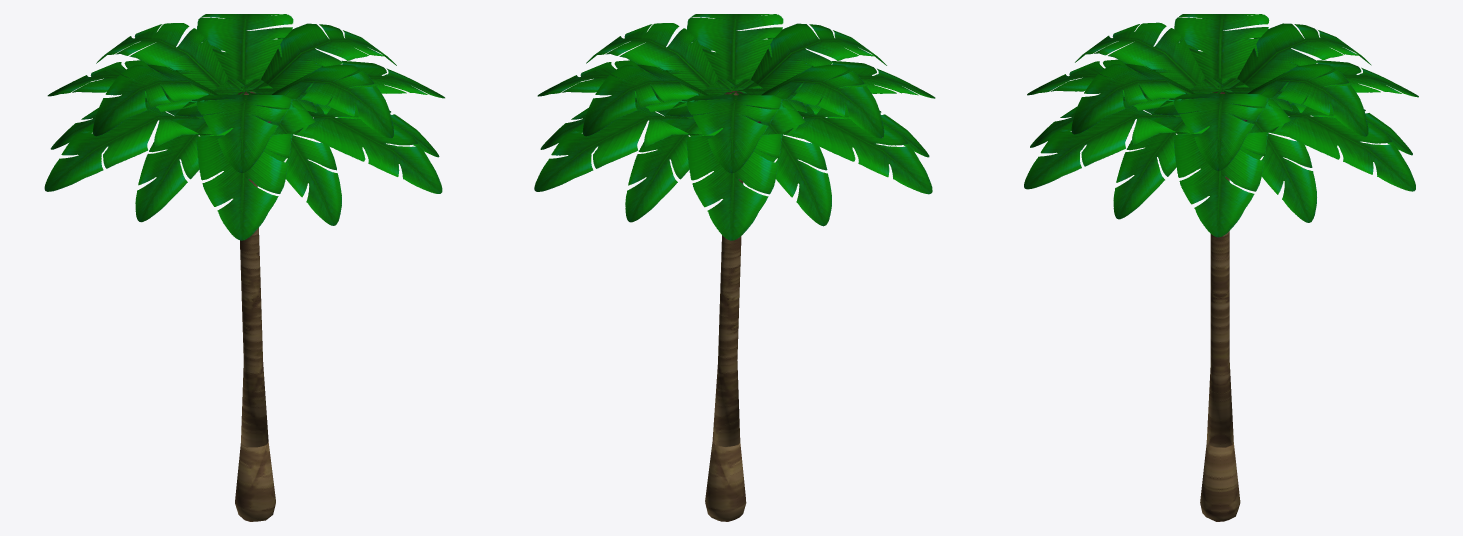
The model's file is PR_Palm_Default.fbx.
3 views of the same model, side by side, from view 1: azimuth 30°, elevation 25°; view 2: azimuth 150°, elevation 25°; view 3: azimuth 270°, elevation 25° (orthographic).
Parts seen in each view (by area): view 1: Palm Leaf.026, Palm Leaf.025, Palm Leaf.027, Plane.010, Plane.014; view 2: Palm Leaf.026, Palm Leaf.025, Palm Leaf.027, Plane.010, Plane.014; view 3: Palm Leaf.026, Palm Leaf.025, Palm Leaf.027, Plane.010, Plane.014.
Boxes of the visible parts, x1=… form: Palm Leaf.026: x1=93, y1=14, x2=396, y2=172; Palm Leaf.025: x1=44, y1=49, x2=444, y2=240; Palm Leaf.027: x1=50, y1=70, x2=439, y2=225; Plane.010: x1=240, y1=179, x2=268, y2=447; Plane.014: x1=235, y1=442, x2=275, y2=521; Palm Leaf.026: x1=582, y1=14, x2=886, y2=173; Palm Leaf.025: x1=534, y1=49, x2=935, y2=240; Palm Leaf.027: x1=540, y1=70, x2=929, y2=226; Plane.010: x1=712, y1=179, x2=743, y2=446; Plane.014: x1=705, y1=442, x2=746, y2=521; Palm Leaf.026: x1=1071, y1=14, x2=1371, y2=170; Palm Leaf.025: x1=1024, y1=49, x2=1418, y2=237; Palm Leaf.027: x1=1030, y1=69, x2=1412, y2=222; Plane.010: x1=1206, y1=176, x2=1233, y2=447; Plane.014: x1=1200, y1=442, x2=1240, y2=521.
Size of the model in its own units: 2371 by 2531 by 2298.
